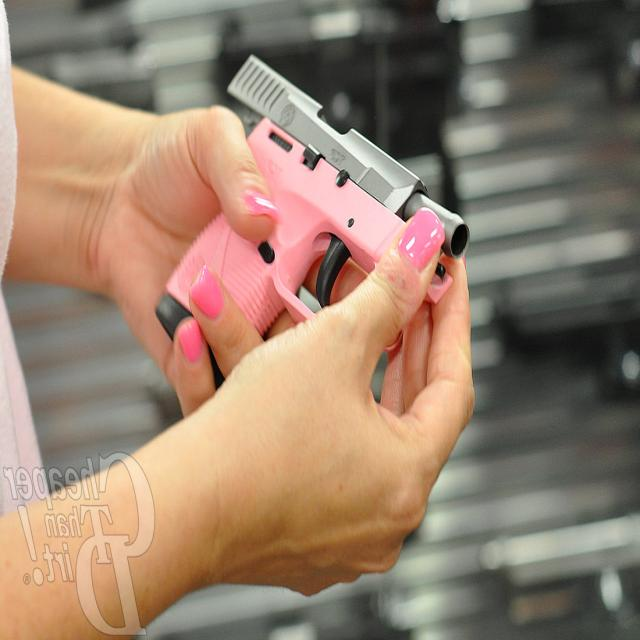pistol: (151, 42, 474, 378)
